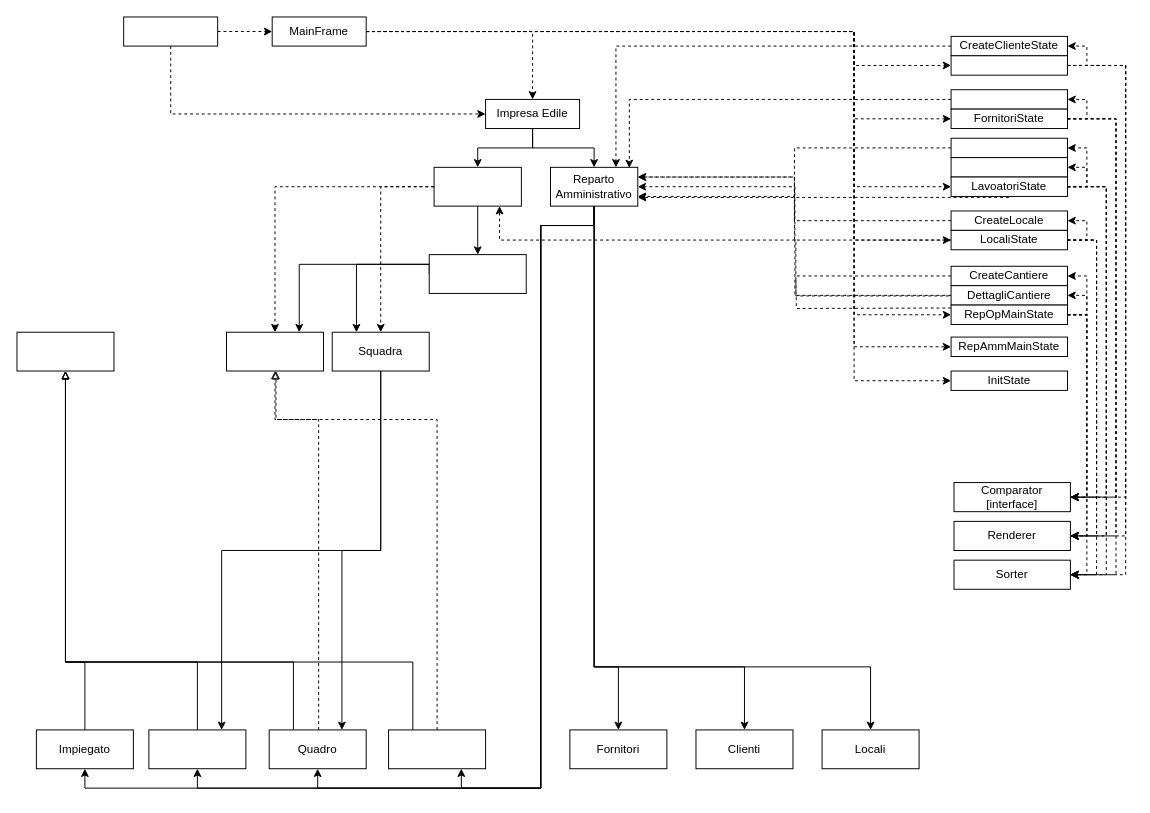
The diagram is 1150 pixels wide and 813 high, and some of its shapes have lost their labels. Here are the shapes that lost their labels. From the top down, the box of each, then its label:
(123, 16, 218, 46): Main
(950, 55, 1067, 75): ClientiState
(950, 89, 1067, 109): CreateFornitoreState
(950, 137, 1067, 158): CreateLavoratore
(950, 157, 1067, 177): DettagliLavoratore
(433, 166, 521, 206): Reparto Operativo
(428, 254, 526, 293): Cantiere
(16, 331, 114, 371): Lavoratore
(226, 331, 323, 371): Responsabile [interface]
(148, 729, 246, 769): Operaio
(388, 729, 486, 769): Dirigente
